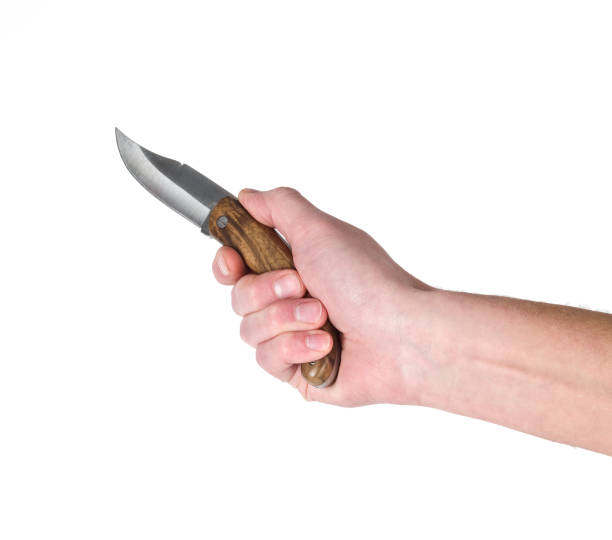knife: (114, 127, 342, 390)
